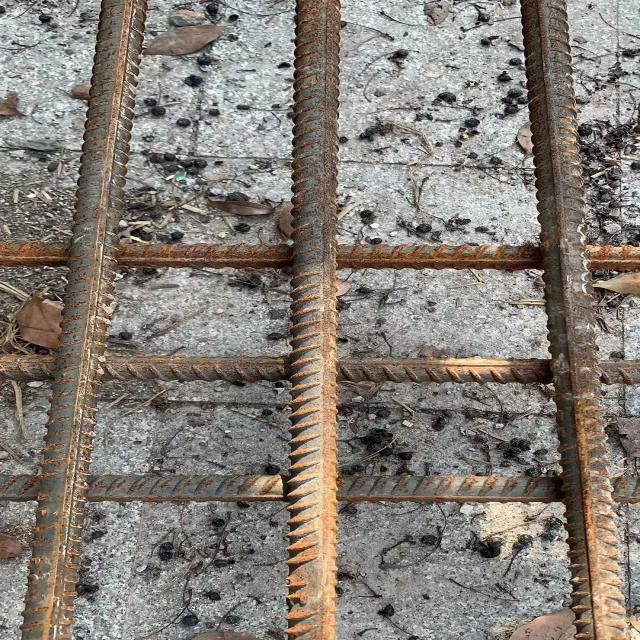ribbed bar: (19, 0, 149, 639), (518, 0, 631, 639), (282, 0, 344, 639), (1, 352, 640, 386), (1, 240, 640, 272), (1, 473, 640, 503)
